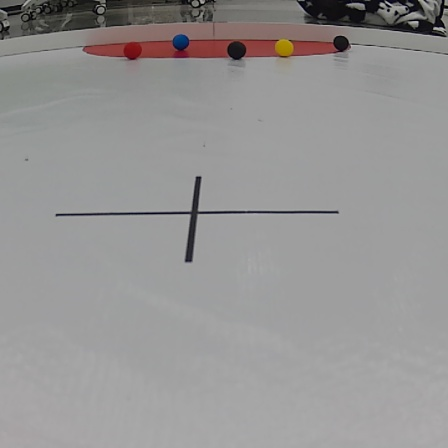black: (225, 38, 248, 62), (331, 35, 350, 52)
blue: (169, 32, 193, 50)
red: (125, 42, 141, 59)
red_base: (80, 37, 353, 60)
yellow: (276, 38, 294, 59)
